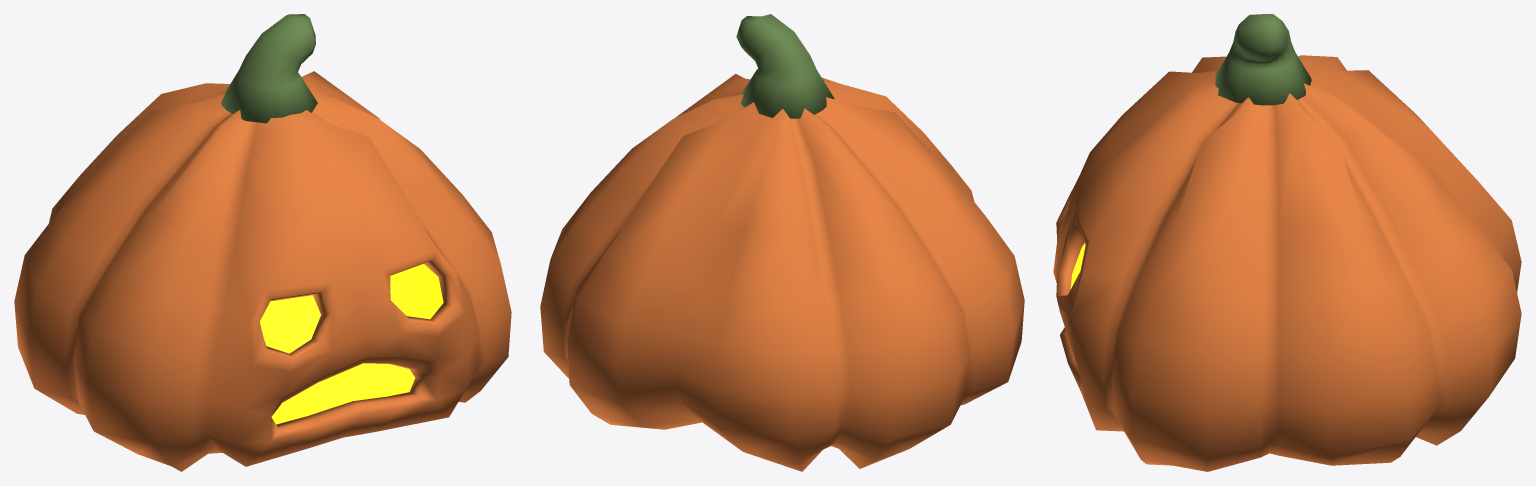
Rendered from pumpkin (1).fbx.
The picture shows the model from 3 angles, left to right: view 1: azimuth 30°, elevation 25°; view 2: azimuth 150°, elevation 25°; view 3: azimuth 270°, elevation 25°; orthographic projection. The views are drawn at different scales.
Parts seen in each view (by area): view 1: pumpkin_1; view 2: pumpkin_1; view 3: pumpkin_1.
Boxes of the visible parts, <box> form: pumpkin_1: <box>14,14,511,471</box>; pumpkin_1: <box>540,14,1024,471</box>; pumpkin_1: <box>1053,14,1521,471</box>.
Bounding box in the file's own units: 131 × 119 × 122.
